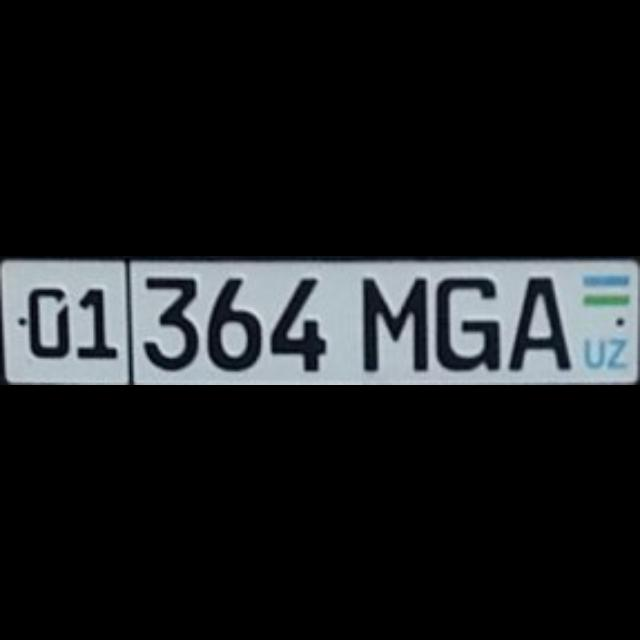0: (27, 284, 69, 354)
1: (74, 284, 116, 356)
3: (142, 273, 196, 369)
4: (267, 275, 323, 369)
6: (205, 275, 261, 369)
A: (504, 273, 568, 369)
G: (432, 273, 500, 369)
M: (358, 273, 426, 371)
